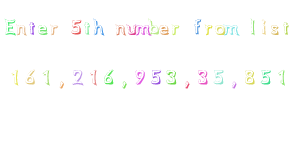,: (120, 79, 129, 91), (230, 79, 239, 91), (183, 78, 191, 91), (57, 80, 66, 91)
1: (276, 67, 288, 87), (88, 69, 100, 86), (10, 69, 21, 86), (41, 68, 52, 84)
2: (71, 67, 86, 87)
3: (196, 67, 209, 87), (165, 68, 177, 86)
5: (149, 68, 164, 86), (259, 68, 273, 86), (69, 17, 82, 36), (213, 67, 226, 86)
6: (25, 68, 38, 86), (103, 68, 115, 85)
8: (243, 68, 255, 86)
9: (133, 67, 146, 86)
E: (2, 16, 16, 38)
b: (147, 17, 160, 37)
e: (37, 24, 48, 36), (159, 23, 169, 36)
f: (192, 16, 202, 36)
h: (92, 17, 105, 37)
i: (260, 19, 268, 35)
l: (247, 16, 258, 37)
m: (135, 22, 151, 38), (224, 24, 240, 37)
n: (114, 21, 126, 38), (16, 22, 27, 36)
o: (215, 24, 226, 37)
r: (170, 23, 181, 36), (48, 23, 58, 36), (204, 24, 214, 36)
s: (270, 24, 280, 36)
t: (281, 19, 291, 35), (27, 19, 36, 35), (83, 20, 92, 36)
u: (126, 23, 137, 37)
